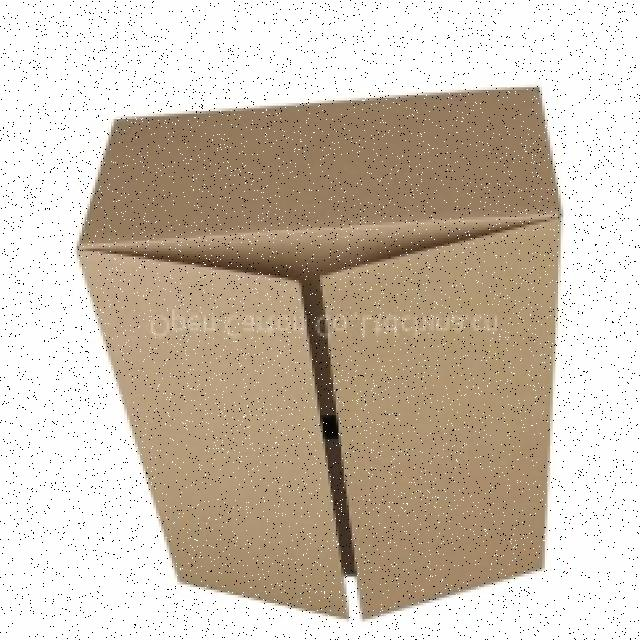box: (77, 60, 587, 619)
